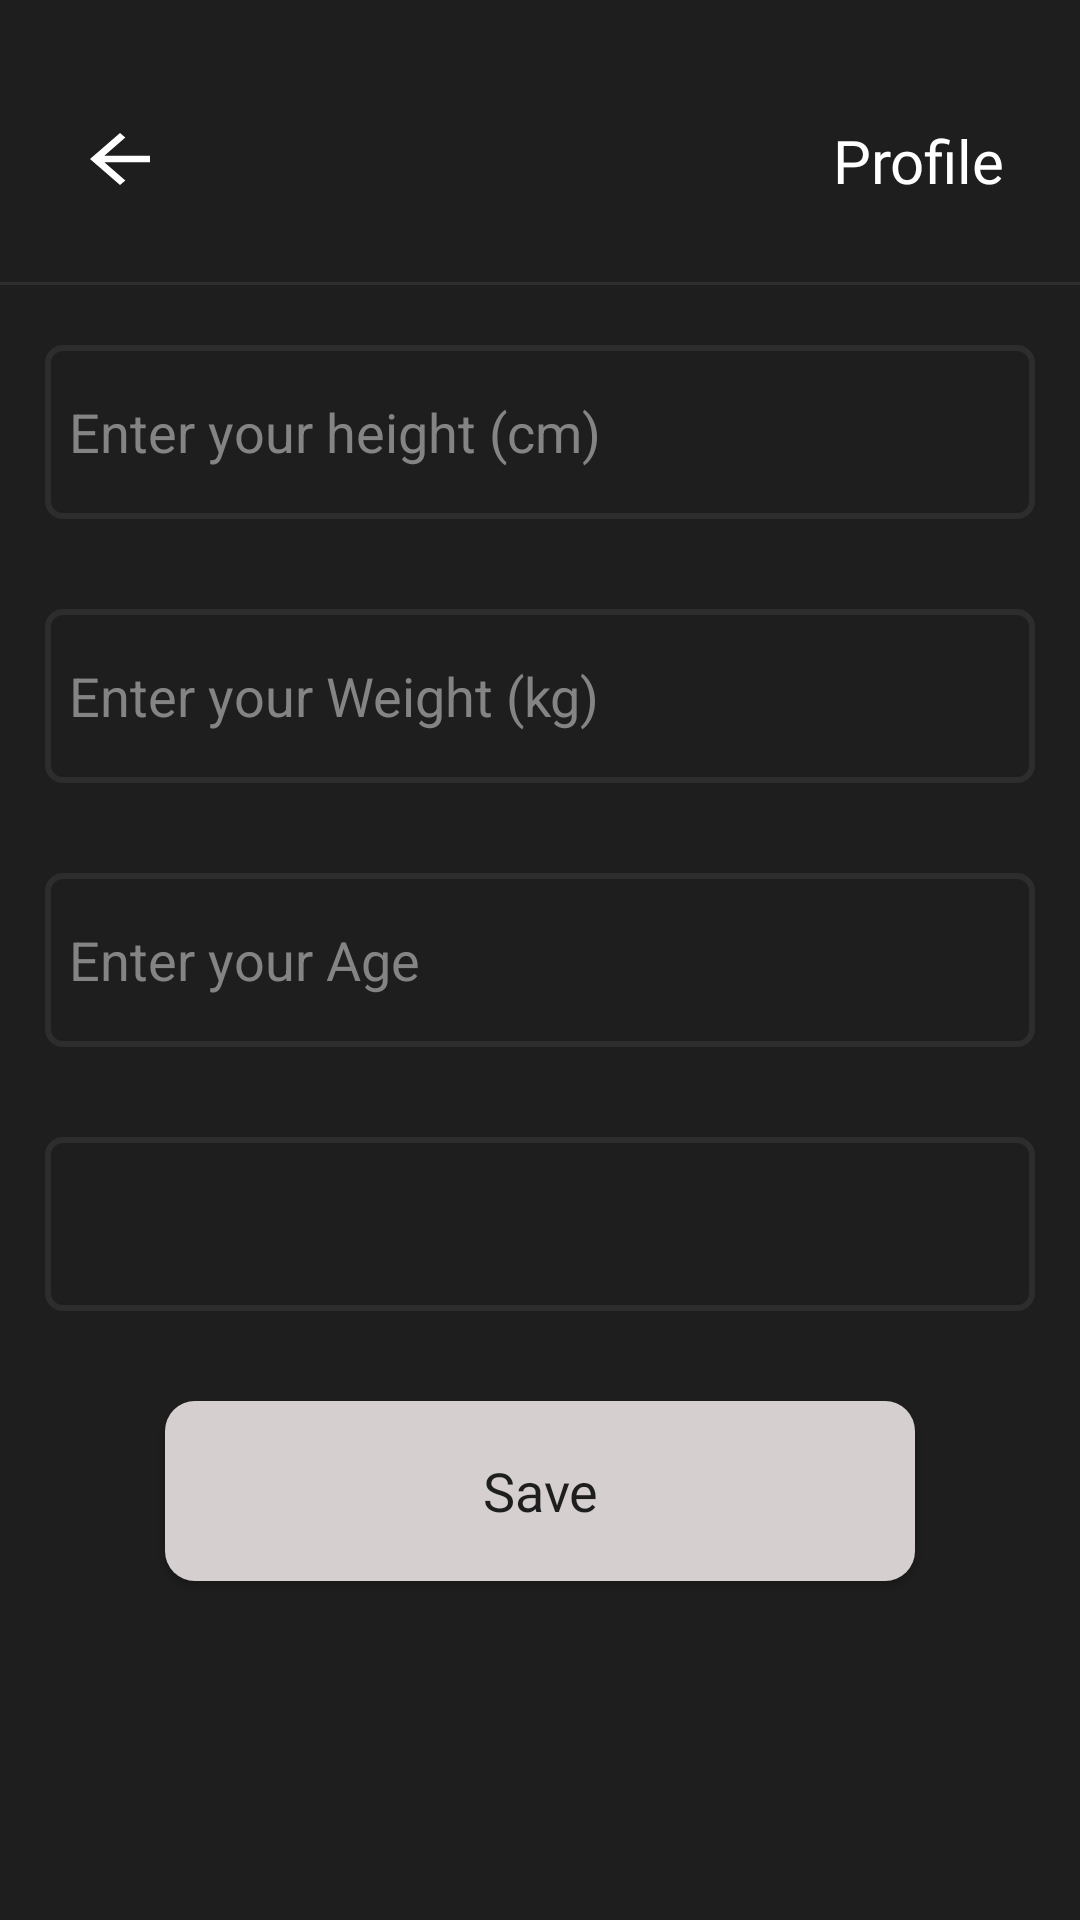

Locate icon controls on the screen. Image size 1080*1920, boxes as box=[x1, y1, x2, y2].
arrow back: box=[90, 133, 150, 185]
